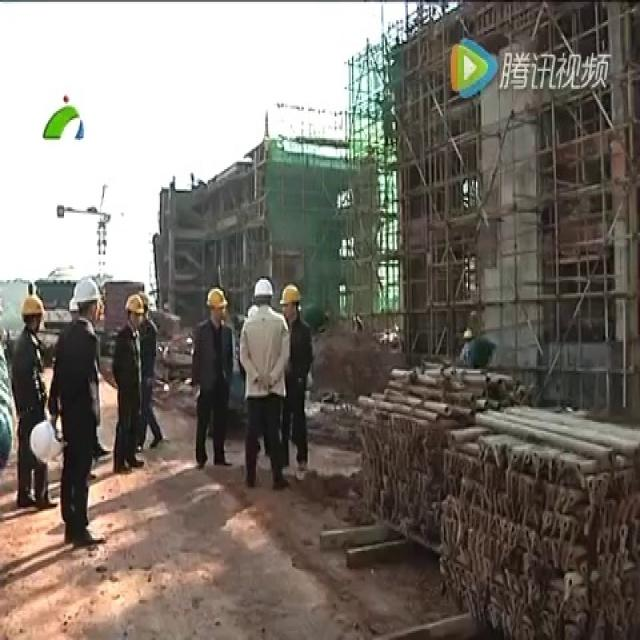helmet: (72, 367, 99, 429), (20, 388, 44, 447), (277, 371, 301, 421), (251, 364, 274, 412), (205, 382, 226, 429), (123, 391, 143, 438)
